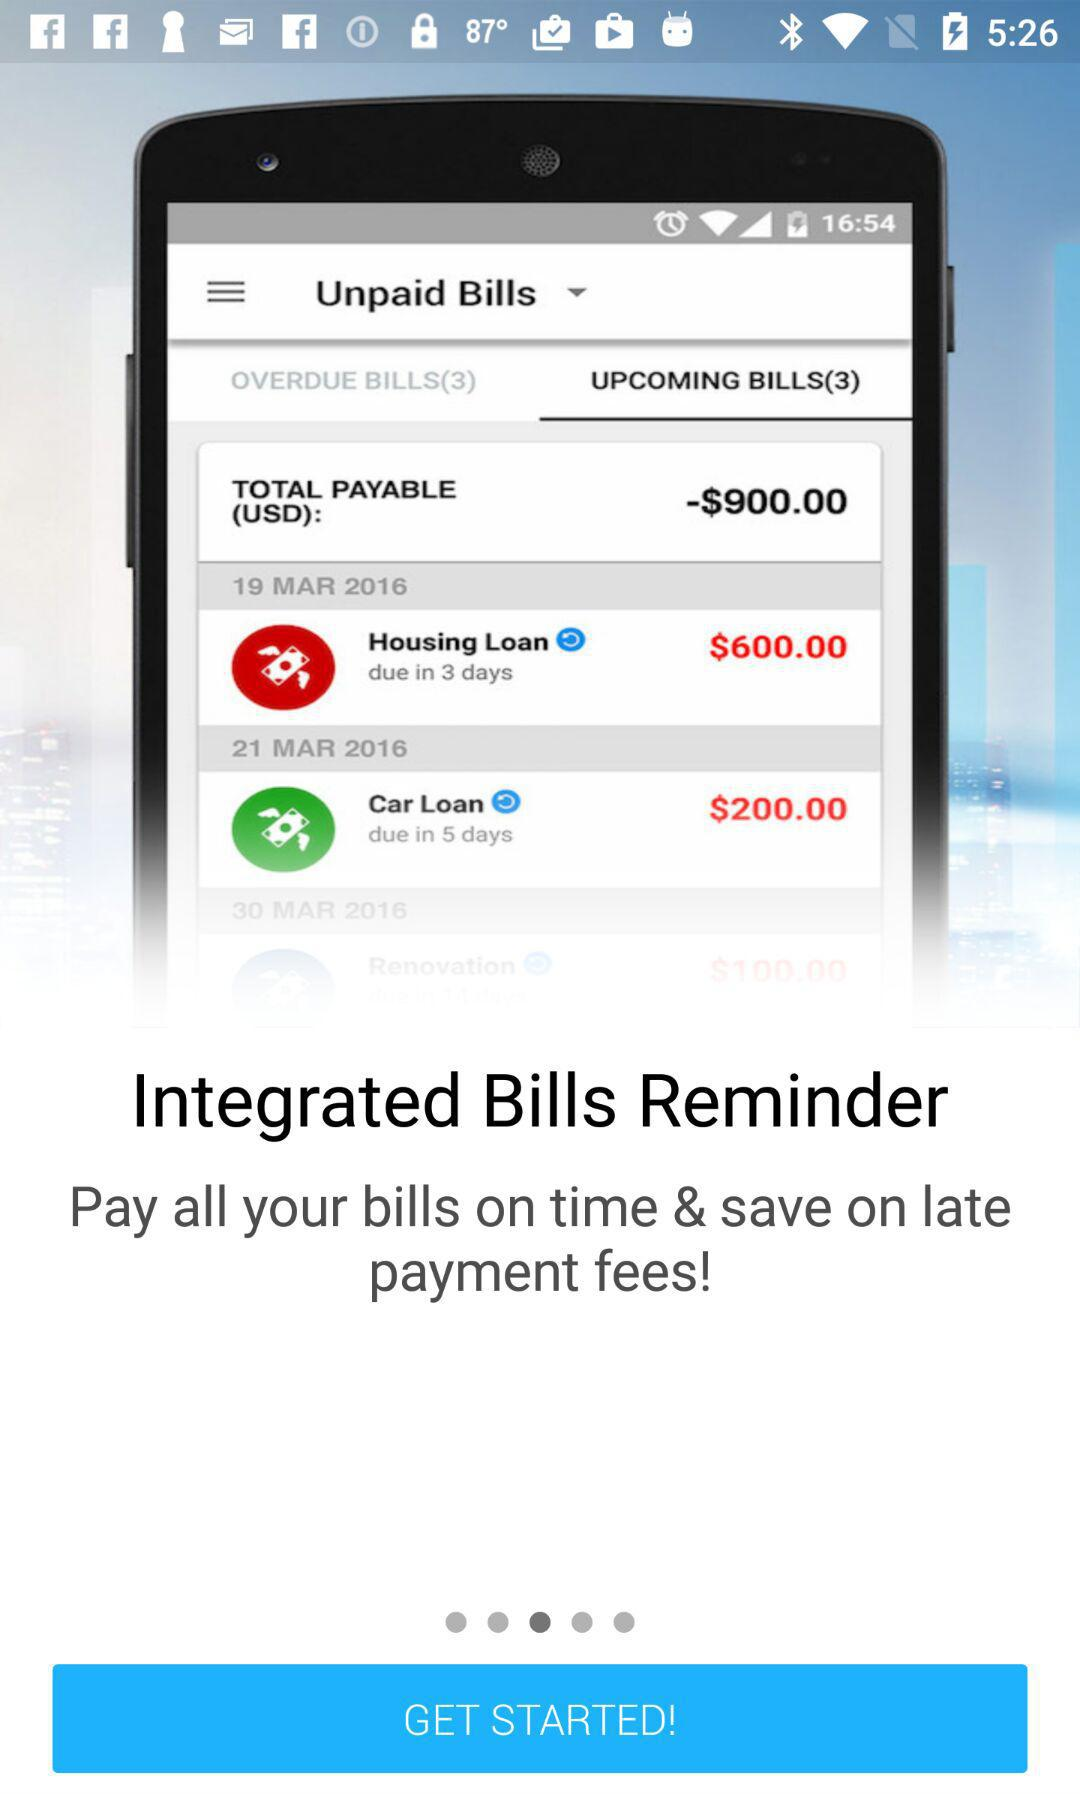Image: (1, 64, 1080, 1032)
PageIndicator: (445, 1609, 637, 1635)
Text: (72, 1183, 1011, 1304), (136, 1069, 951, 1143)
TextButton: (53, 1663, 1027, 1773)
UpperTaskBar: (1, 1, 1080, 64)
